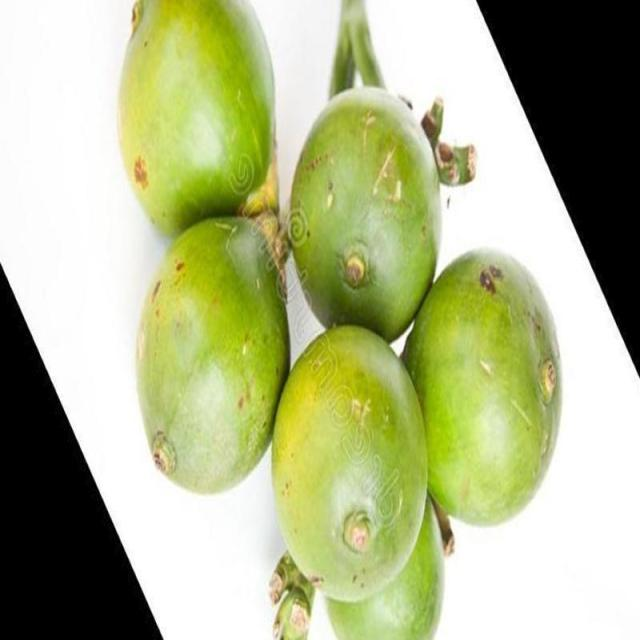good: (270, 327, 445, 639), (402, 249, 564, 529), (135, 217, 291, 498), (287, 87, 440, 354), (117, 0, 275, 239)
